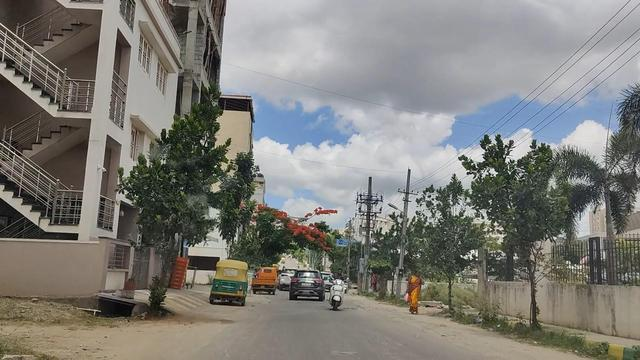RoadDamages: (351, 300, 395, 320)
